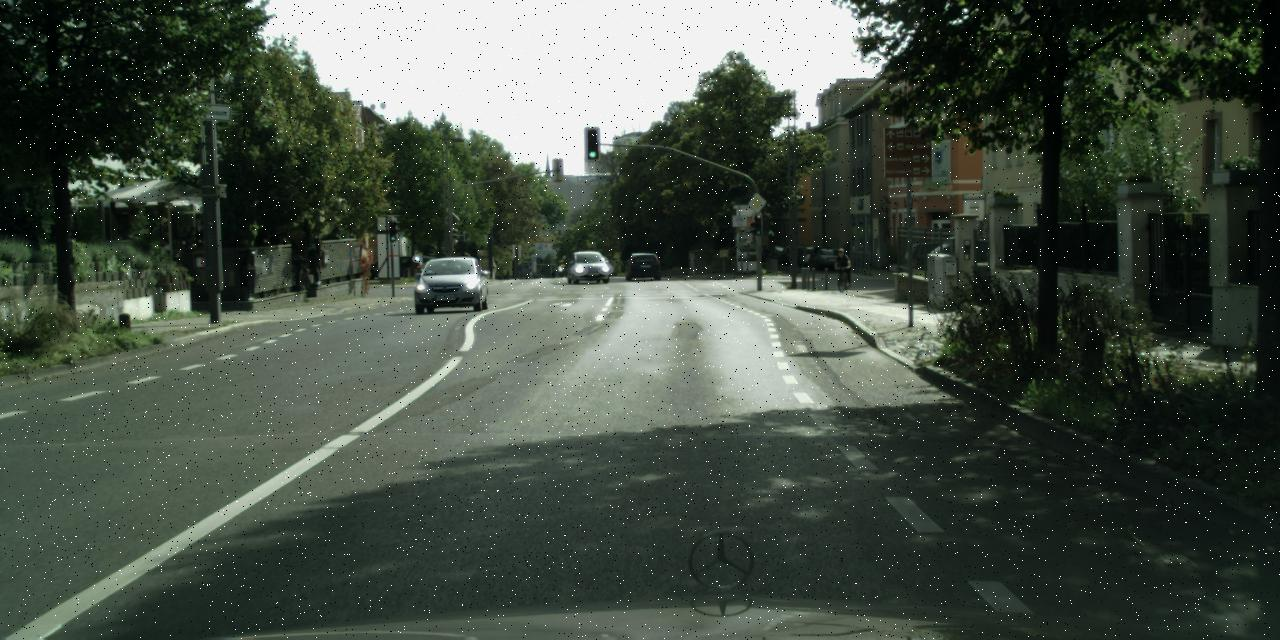ped: (834, 248, 850, 286)
